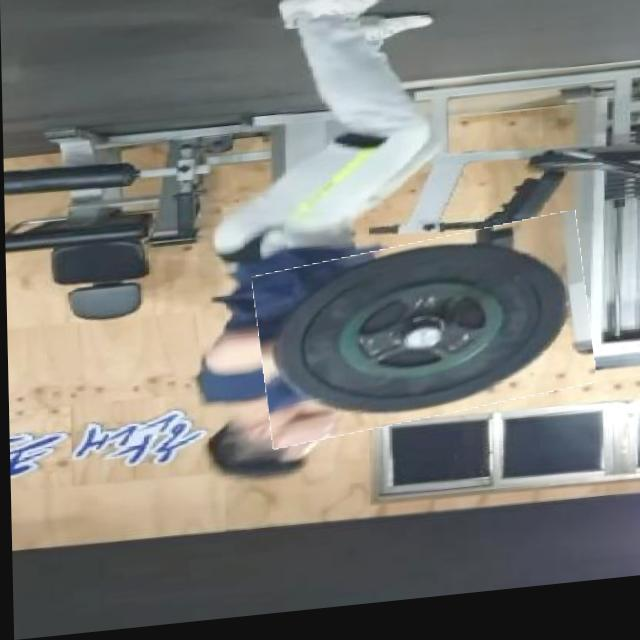barbell: (255, 230, 592, 449)
